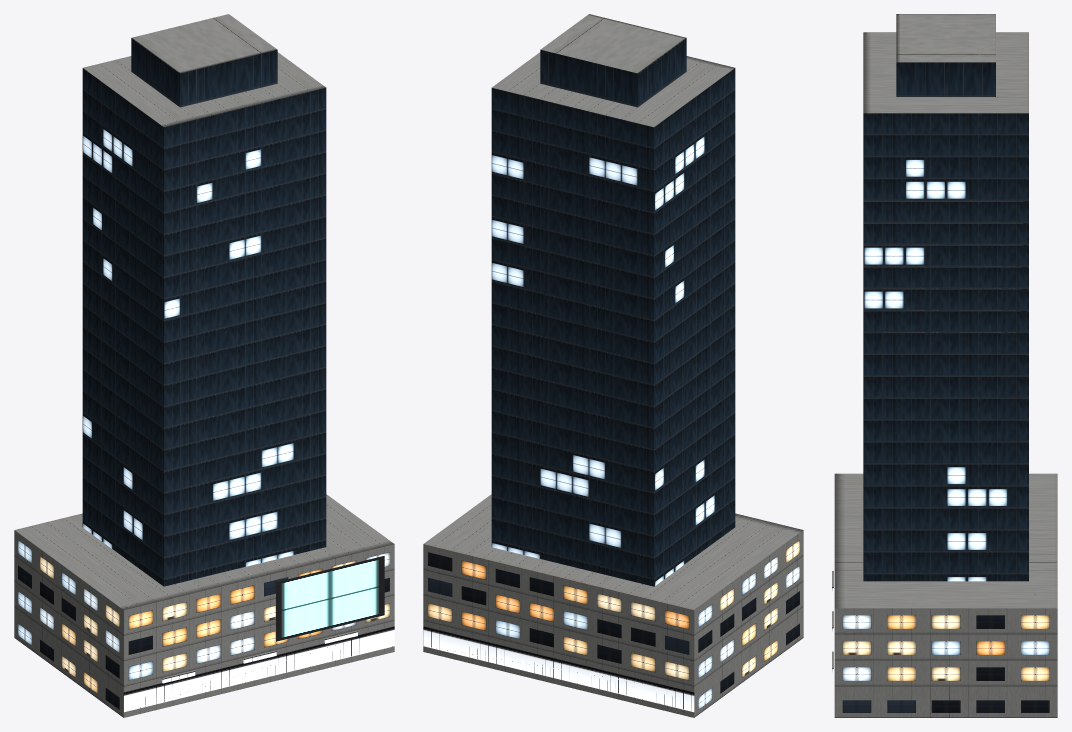
The model's file is modules.glb.
3 views of the same model, side by side, from view 1: azimuth 30°, elevation 25°; view 2: azimuth 150°, elevation 25°; view 3: azimuth 270°, elevation 25° (orthographic).
Visible parts, largest first — view 1: office_b, mall_t; view 2: office_b, mall_t; view 3: office_b, mall_t.
Boxes of the visible parts, box(x1,y1,x2,y2) form: office_b: box(82, 14, 326, 586); mall_t: box(14, 494, 394, 717); office_b: box(491, 14, 735, 586); mall_t: box(423, 494, 803, 717); office_b: box(863, 14, 1028, 581); mall_t: box(832, 473, 1057, 717).
Size of what is drawn, in the model's own units: 50.06 by 106 by 35.43.
1 material, 1 textured.
